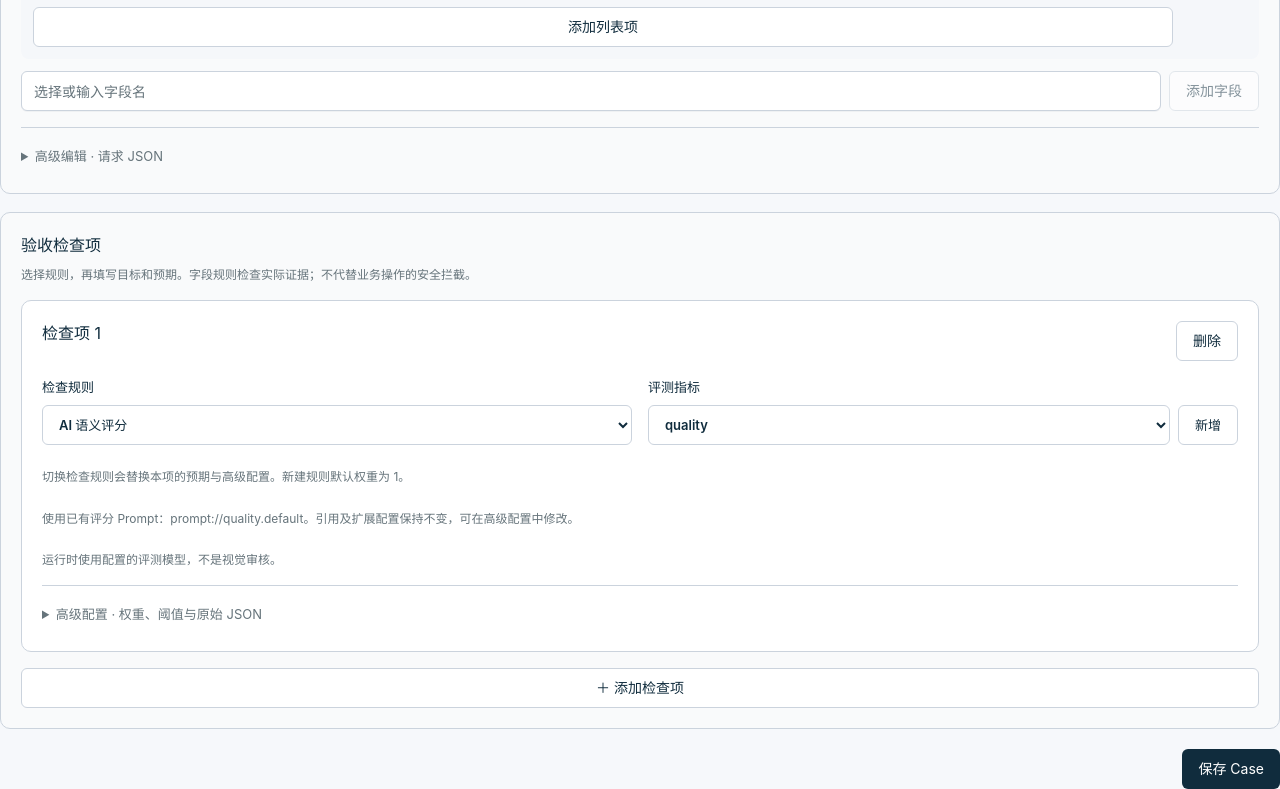
Scenario: Case 双编辑器组件 › 服务端非字段错误和 Assertion 路径均显示可读错误并保留 Draft
(page scrolled)
Step 1. Click the button "保存 Case" → (1231, 769), box [1182,749,1279,788]
(page scrolled)
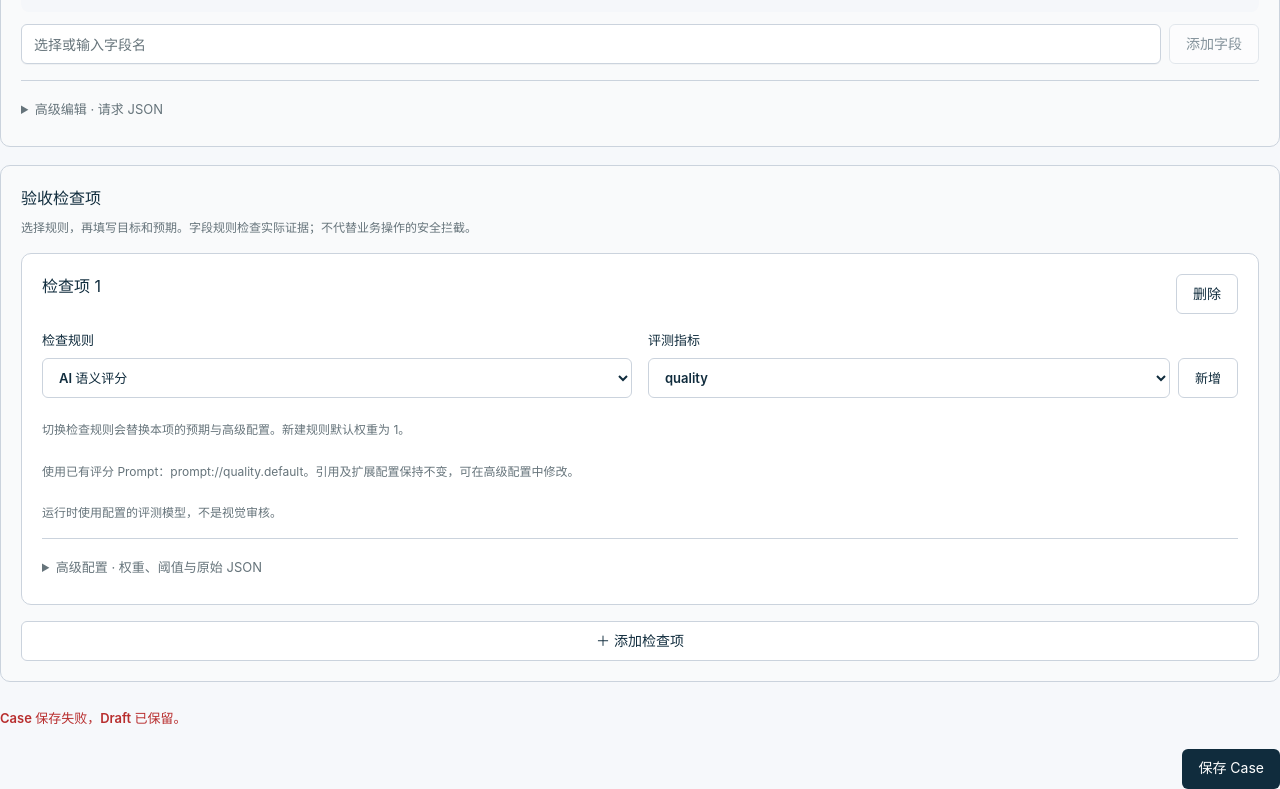
Expected: the text "Case 保存失败，Draft 已保留。" is shown, [0,710,186,726]
Step 2. Click the button "保存 Case" → (1231, 769), box [1182,749,1279,788]
(page scrolled)
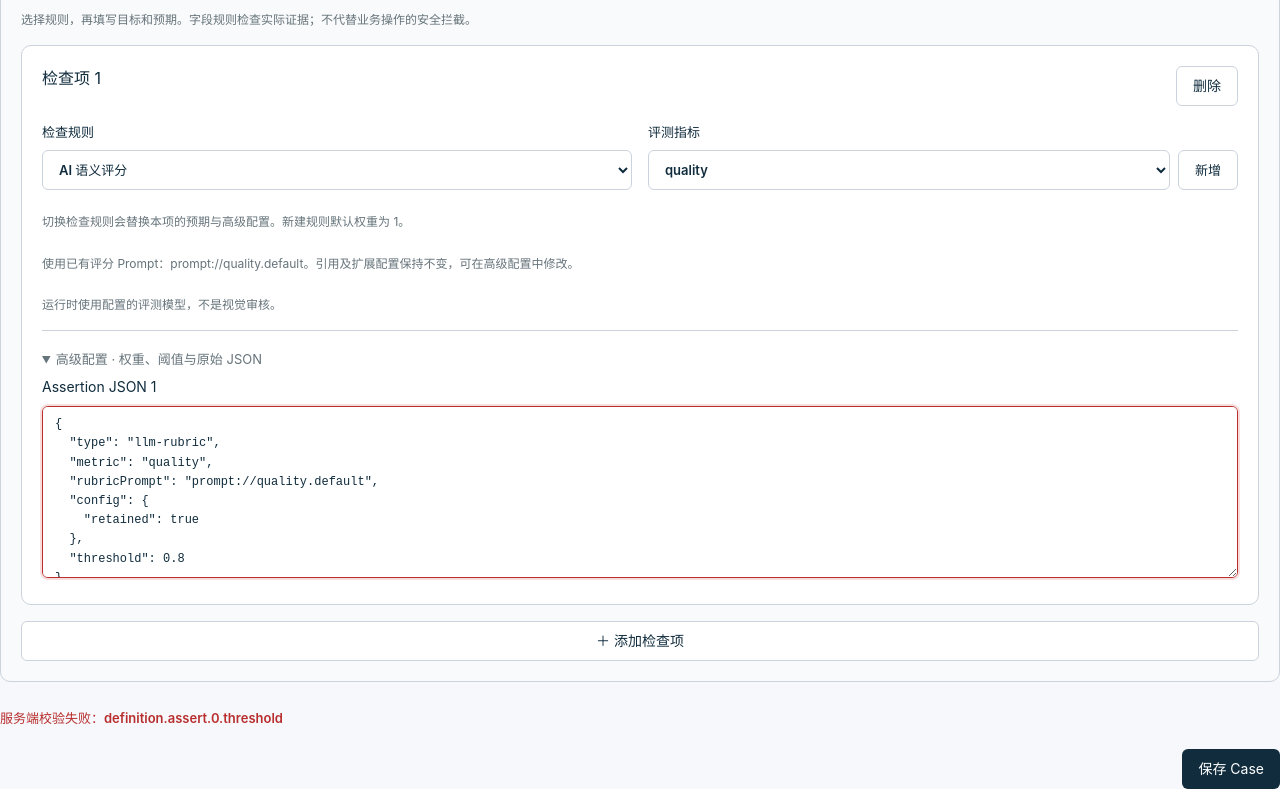
Expected: the text "服务端校验失败：definition.assert.0.threshold" is shown, [0,710,283,726]
Step 3. Click the button "保存 Case" → (1231, 769), box [1182,749,1279,788]
(page scrolled)
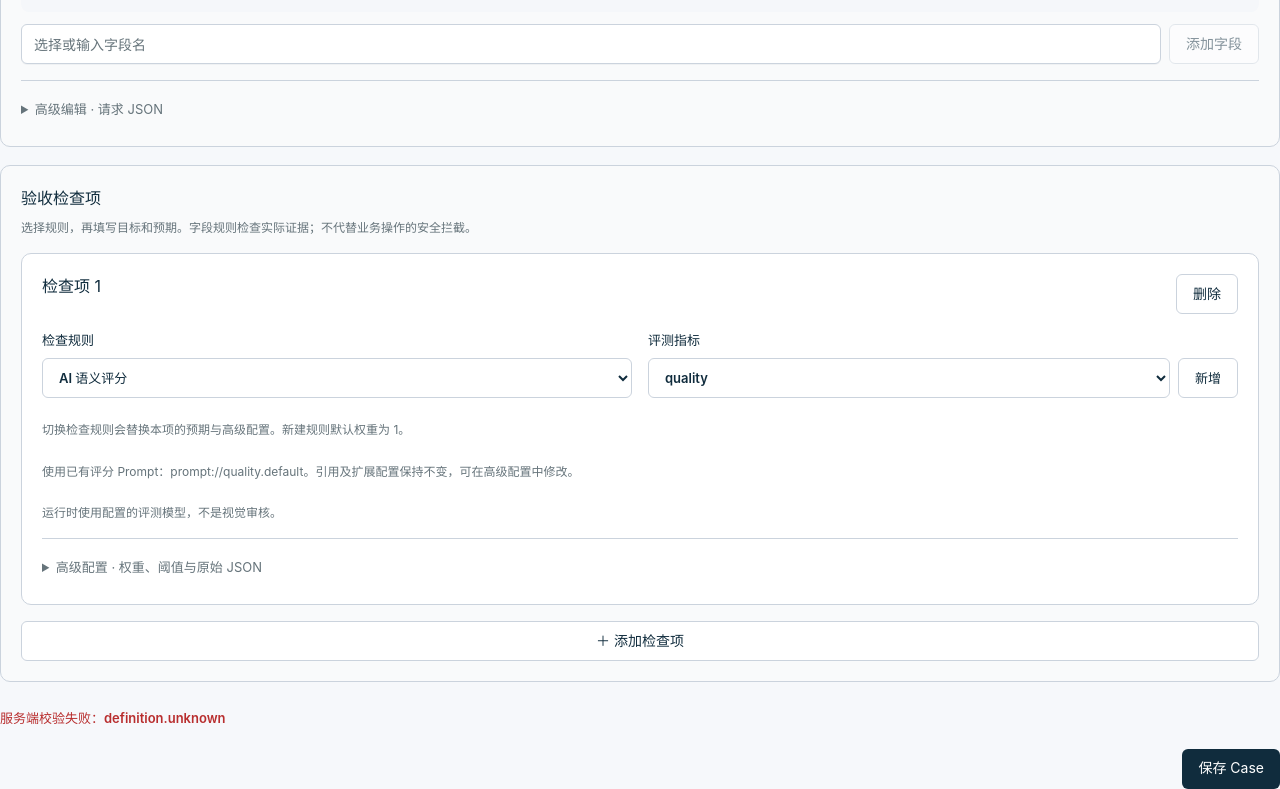
Expected: the text "服务端校验失败：definition.unknown" is shown, [0,710,226,726]
